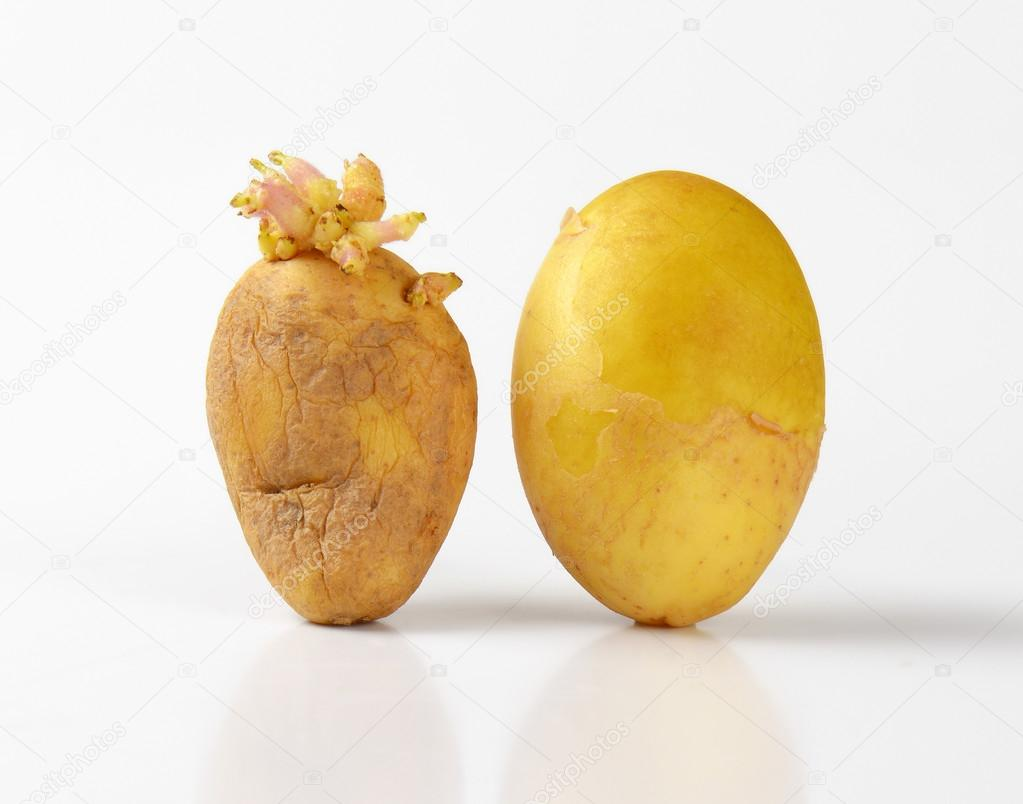potato rotten: (186, 148, 498, 656)
